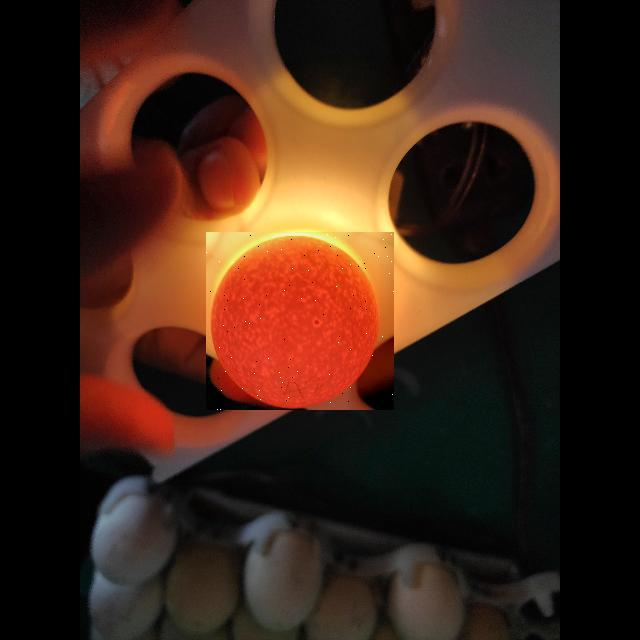A - Good: (206, 232, 394, 410)
